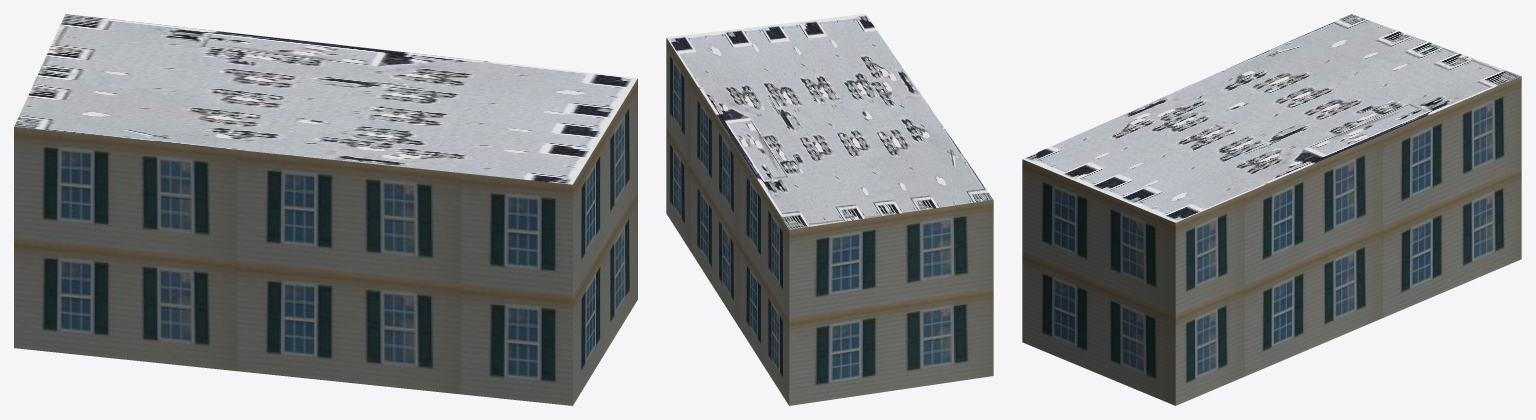
File: ResTex__1438.fbx
The picture shows the model from 3 angles, left to right: view 1: azimuth 30°, elevation 25°; view 2: azimuth 150°, elevation 25°; view 3: azimuth 270°, elevation 25°; orthographic projection. The views are drawn at different scales.
Visible parts, largest first — view 1: CityEngineMaterial_7_m, CityEngineMaterial_m; view 2: CityEngineMaterial_7_m, CityEngineMaterial_m; view 3: CityEngineMaterial_7_m, CityEngineMaterial_m.
Boxes of the visible parts, box(x1,y1,x2,y2) form: CityEngineMaterial_7_m: box(14, 78, 637, 405); CityEngineMaterial_m: box(14, 14, 637, 184); CityEngineMaterial_7_m: box(666, 38, 993, 405); CityEngineMaterial_m: box(666, 14, 993, 229); CityEngineMaterial_7_m: box(1022, 76, 1521, 405); CityEngineMaterial_m: box(1023, 14, 1521, 222).
Size of the model in its own units: 14.68 by 6 by 14.83.
2 materials, 2 textured.
